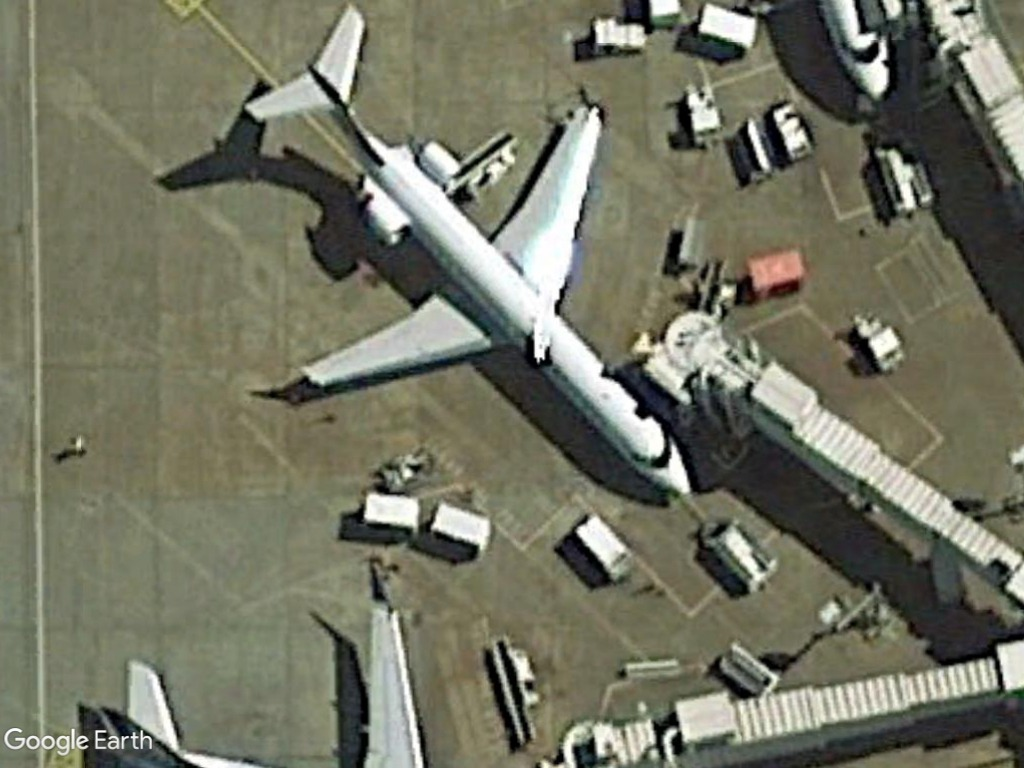chartered: (237, 3, 701, 506)
